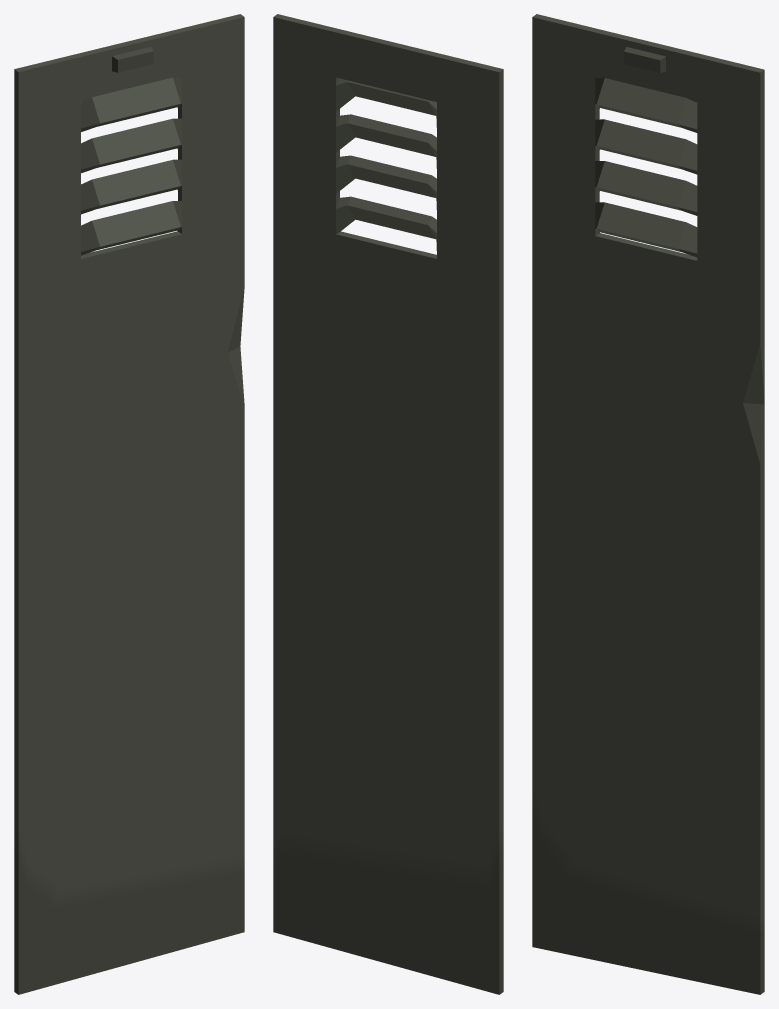
Rendered from SM_Prop_Locker_Door_01.glb.
3 renders of one model, left to right at view 1: azimuth 30°, elevation 25°; view 2: azimuth 150°, elevation 25°; view 3: azimuth 330°, elevation 25°, orthographic.
Parts seen in each view (by area): view 1: SM_Prop_Locker_Door_01; view 2: SM_Prop_Locker_Door_01; view 3: SM_Prop_Locker_Door_01.
Boxes of the visible parts, x1,y1,x2,y2 form: SM_Prop_Locker_Door_01: (14, 14, 244, 994); SM_Prop_Locker_Door_01: (273, 14, 503, 994); SM_Prop_Locker_Door_01: (532, 14, 764, 994).
Bounding box in the file's own units: 0.5755 × 2.24 × 0.0583.
Materials: 1 (1 with a texture image).
